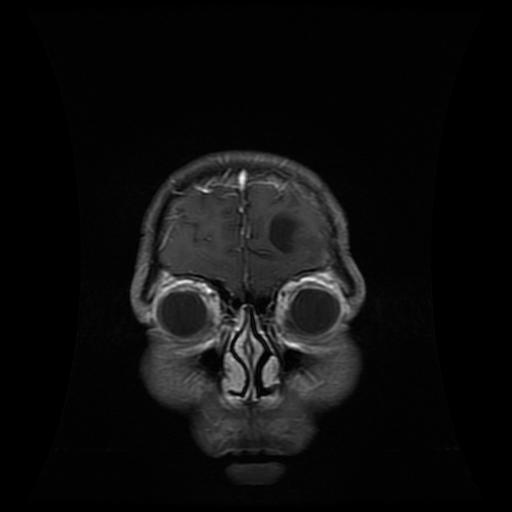Gliomia_tumour: (268, 213, 303, 250)
